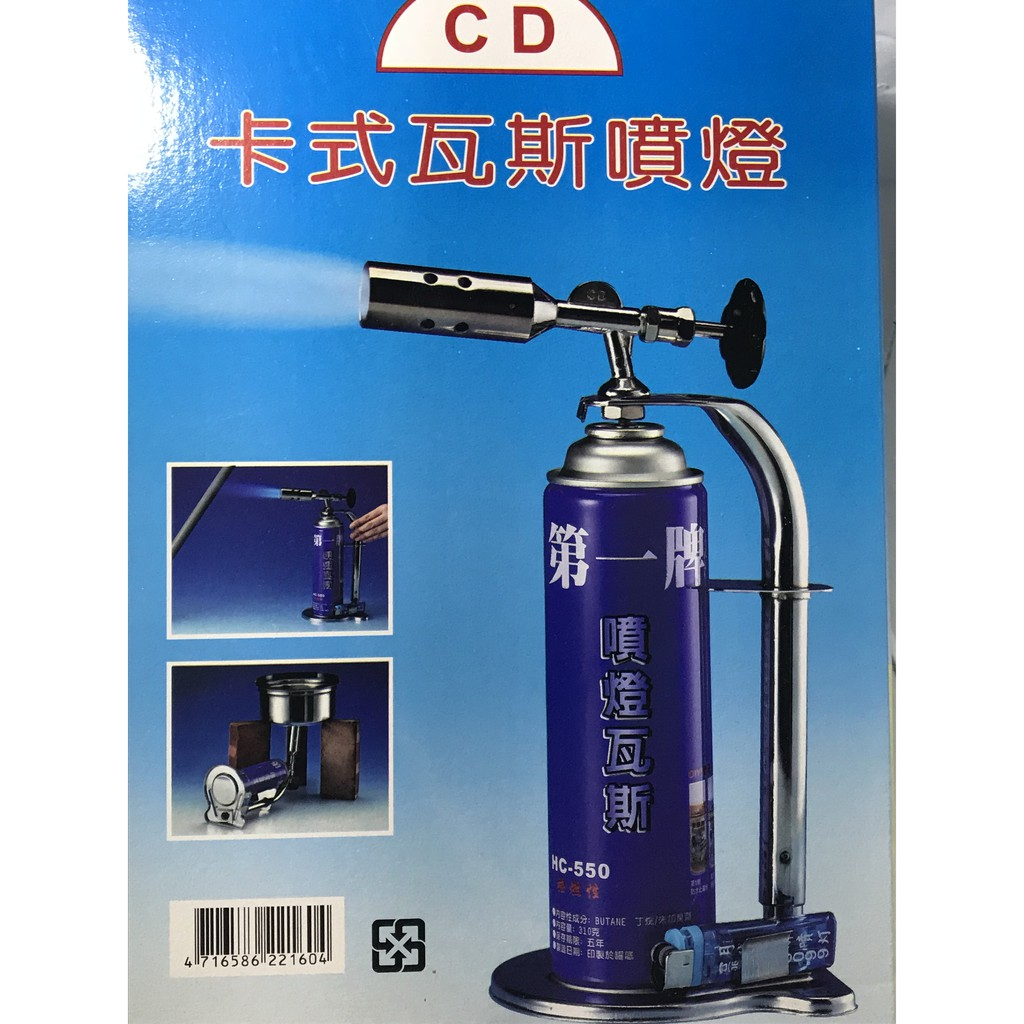gastorch: (357, 262, 857, 1024), (280, 490, 368, 629), (202, 723, 315, 830)
